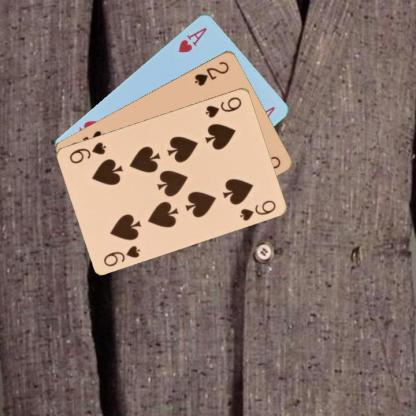2s: (192, 58, 230, 87)
9s: (101, 242, 142, 268), (203, 94, 243, 119)
Ah: (175, 24, 208, 54)
